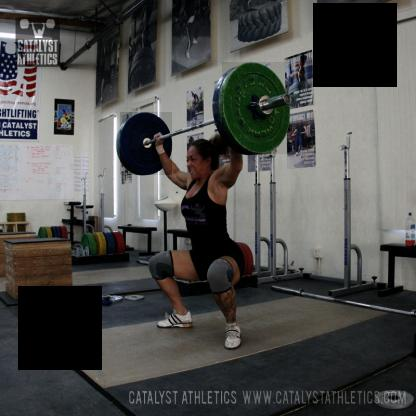barbell: (223, 63, 291, 155), (121, 113, 173, 176)
